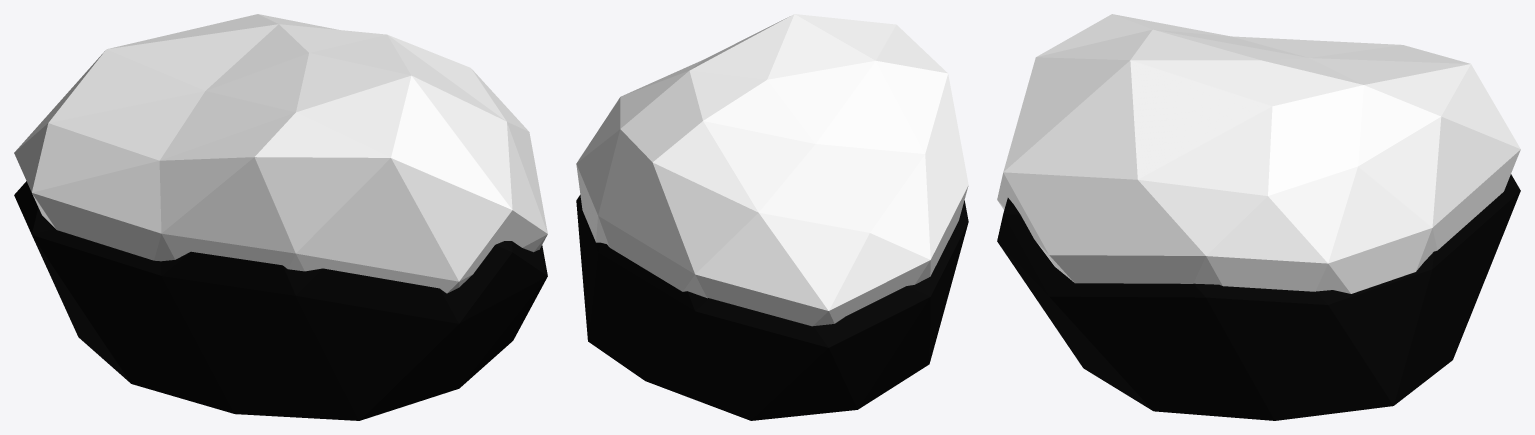
Rendered from Snow_rock_3.fbx.
The picture shows the model from 3 angles, left to right: view 1: azimuth 30°, elevation 25°; view 2: azimuth 150°, elevation 25°; view 3: azimuth 270°, elevation 25°; orthographic projection. The views are drawn at different scales.
Parts seen in each view (by area): view 1: Snow_rock_3; view 2: Snow_rock_3; view 3: Snow_rock_3.
Boxes of the visible parts, x1,y1,x2,y2 form: Snow_rock_3: [14, 14, 547, 420]; Snow_rock_3: [576, 14, 968, 420]; Snow_rock_3: [997, 14, 1520, 420].
Size of the model in its own units: 2.17 by 1.51 by 2.36.
Materials: 1 (1 with a texture image).
